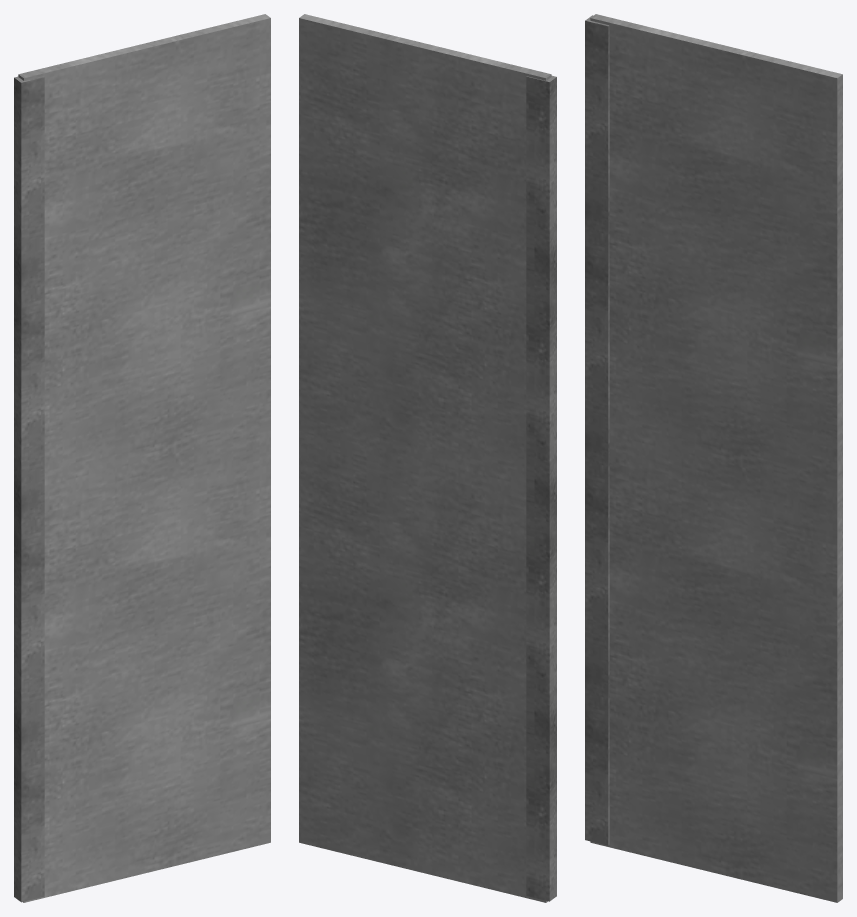
Rendered from door closet.glb.
The picture shows the model from 3 angles, left to right: view 1: azimuth 30°, elevation 25°; view 2: azimuth 150°, elevation 25°; view 3: azimuth 330°, elevation 25°; orthographic projection.
Parts seen in each view (by area): view 1: Cube_002; view 2: Cube_002; view 3: Cube_002.
Boxes of the visible parts, left/top/right/bottom form: Cube_002: left=14, top=14, right=270, bottom=902; Cube_002: left=299, top=14, right=556, bottom=902; Cube_002: left=585, top=14, right=842, bottom=902.
Bounding box in the file's own units: 0.4202 × 1.32 × 0.0211.
2 materials, 2 textured.
